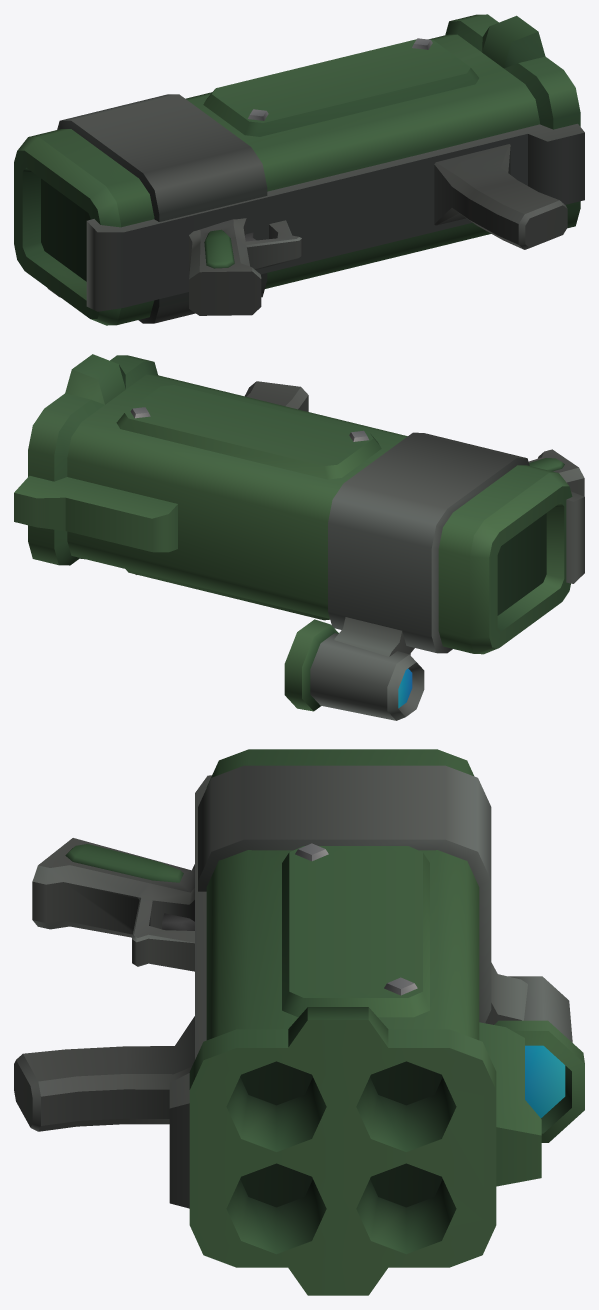
Rendered from Weapon_Quadzooka.fbx.
3 views of the same model, one above another, from view 1: azimuth 30°, elevation 25°; view 2: azimuth 150°, elevation 25°; view 3: azimuth 270°, elevation 25° (orthographic). The views are drawn at different scales.
Parts seen in each view (by area): view 1: Weapon_Quadzooka; view 2: Weapon_Quadzooka; view 3: Weapon_Quadzooka.
Part boxes in pixels (x1,y1,x2,y2): Weapon_Quadzooka: [14, 14, 584, 325]; Weapon_Quadzooka: [14, 354, 584, 720]; Weapon_Quadzooka: [14, 749, 584, 1295].
Size of the model in its own units: 0.6313 by 0.2952 by 0.4668.
